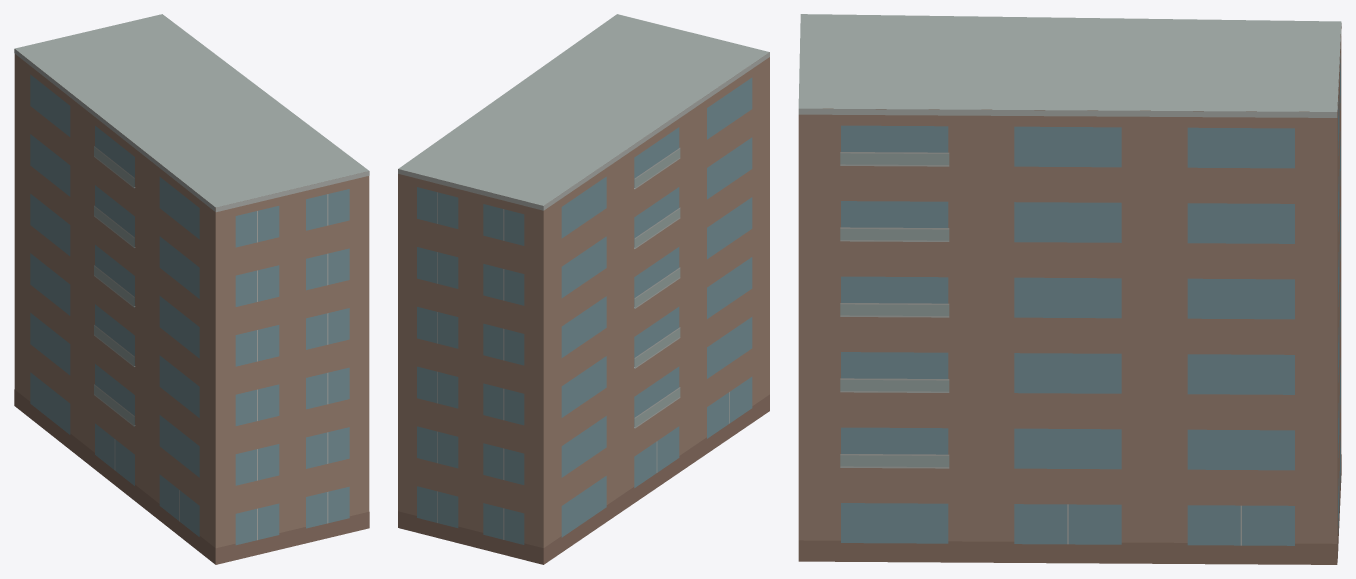
File: survey-upis-32986980.glb
3 views of the same model, side by side, from view 1: azimuth 30°, elevation 25°; view 2: azimuth 150°, elevation 25°; view 3: azimuth 270°, elevation 25° (orthographic). The views are drawn at different scales.
Visible parts, largest first — view 1: survey-upis-32986980.tmp; view 2: survey-upis-32986980.tmp; view 3: survey-upis-32986980.tmp.
Part boxes in pixels (x1,y1,x2,y2): survey-upis-32986980.tmp: (14, 14, 369, 564); survey-upis-32986980.tmp: (398, 14, 769, 564); survey-upis-32986980.tmp: (798, 14, 1341, 564).
Size of the model in its own units: 8.5 by 18.3 by 19.89.
